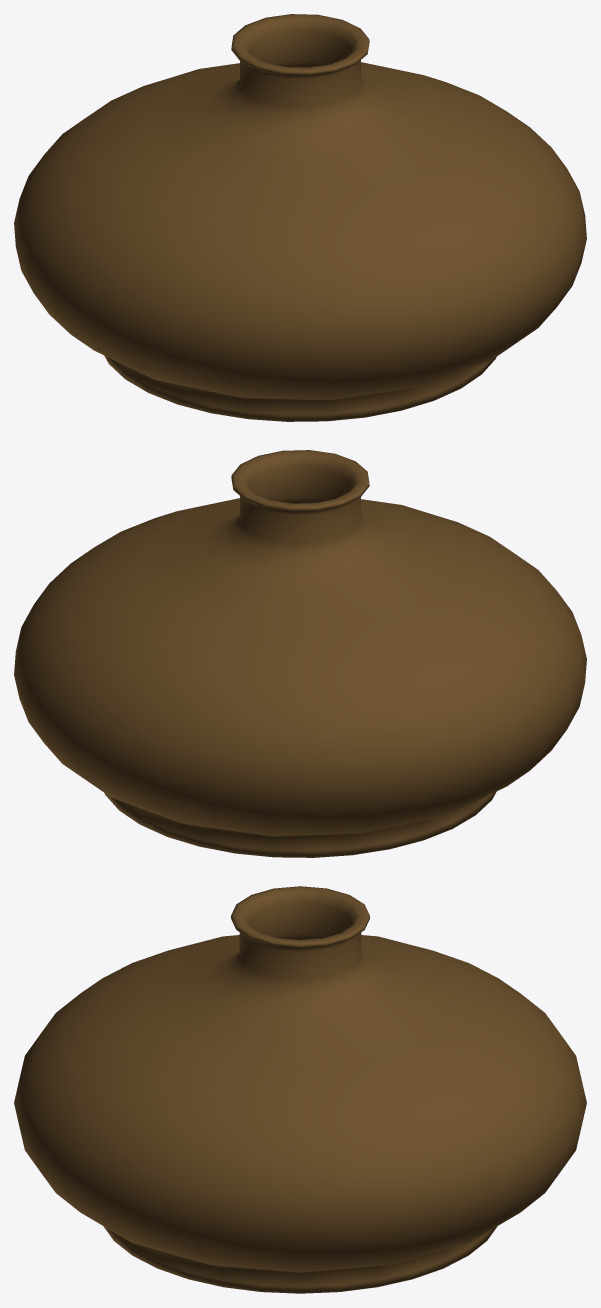
Rendered from Vase2.fbx.
3 views of the same model, one above another, from view 1: azimuth 30°, elevation 25°; view 2: azimuth 150°, elevation 25°; view 3: azimuth 270°, elevation 25° (orthographic).
Visible parts, largest first — view 1: SM_Vase2_01; view 2: SM_Vase2_01; view 3: SM_Vase2_01.
Boxes of the visible parts, box(x1,y1,x2,y2) form: SM_Vase2_01: box(14, 14, 586, 421); SM_Vase2_01: box(14, 450, 586, 857); SM_Vase2_01: box(14, 886, 586, 1293).
Size of the model in its own units: 17.98 by 10.16 by 17.98.
